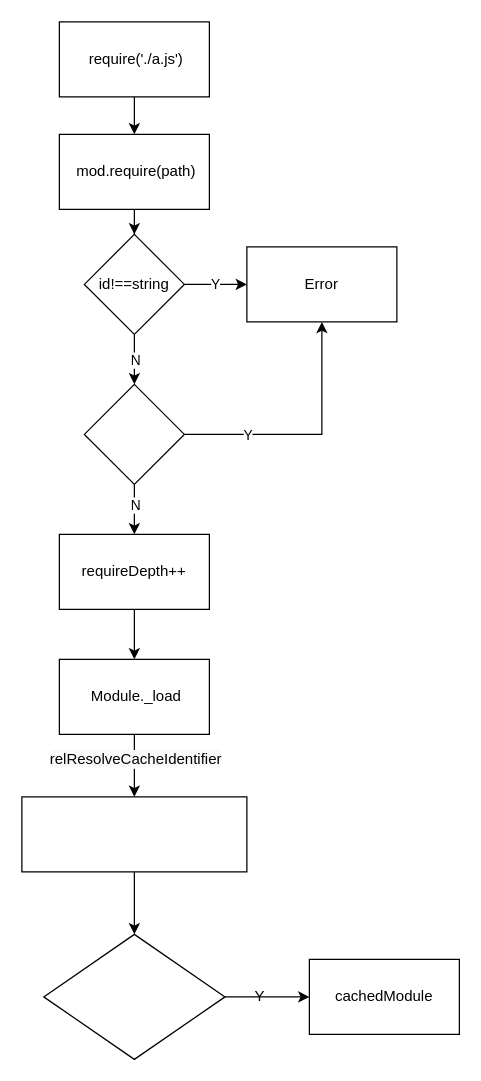
Some shapes in this 481 by 1081 pixel diagram are drawn without their labels. The shapes that lost their labels are listed below. From the top down, each one's box as (x1, y1, x2, y2) in pixels, then its label:
(83, 383, 184, 484): id === ''
(21, 796, 247, 872): `${parent.path}\x00${request}`
(42, 933, 225, 1059): relativeResolveCache
